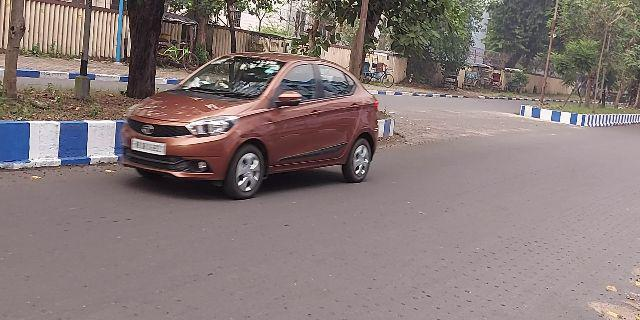Car: (122, 46, 382, 196)
